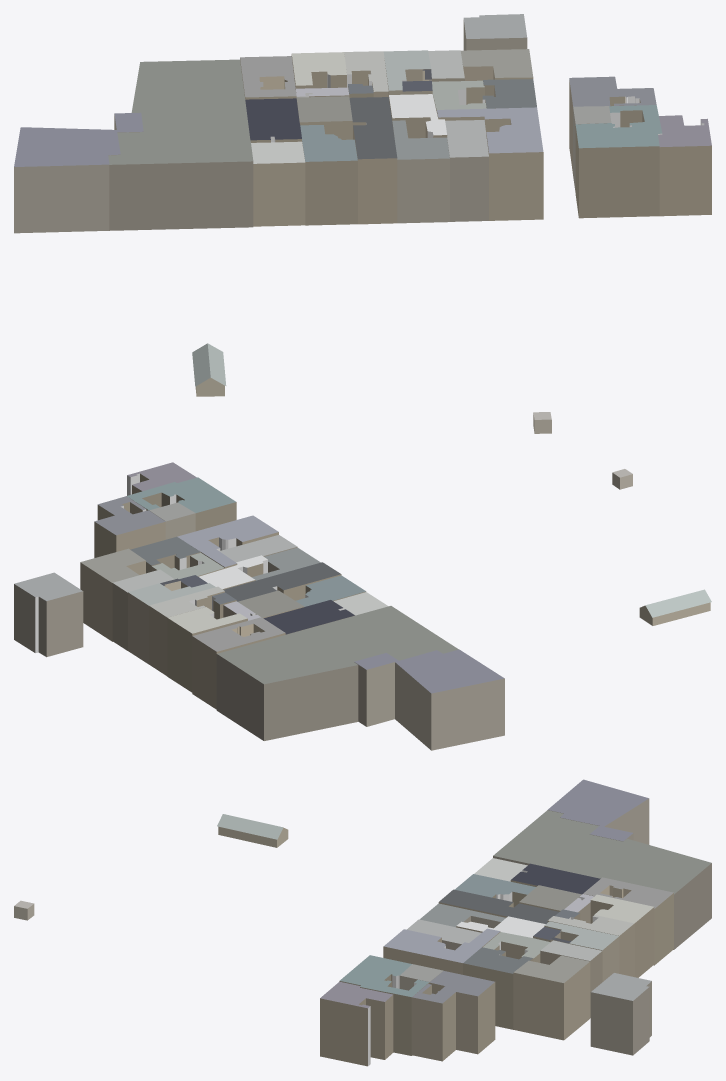
3 views of the same model, one above another, from view 1: azimuth 30°, elevation 25°; view 2: azimuth 150°, elevation 25°; view 3: azimuth 270°, elevation 25° (orthographic). The views are drawn at different scales.
Visible parts, largest first — view 1: tuile; view 2: tuile; view 3: tuile.
Part boxes in pixels (<box>): tuile: <box>14,14,711,433</box>; tuile: <box>14,462,711,750</box>; tuile: <box>14,779,711,1066</box>.
Size of the model in its own units: 192 by 22.73 by 232.
